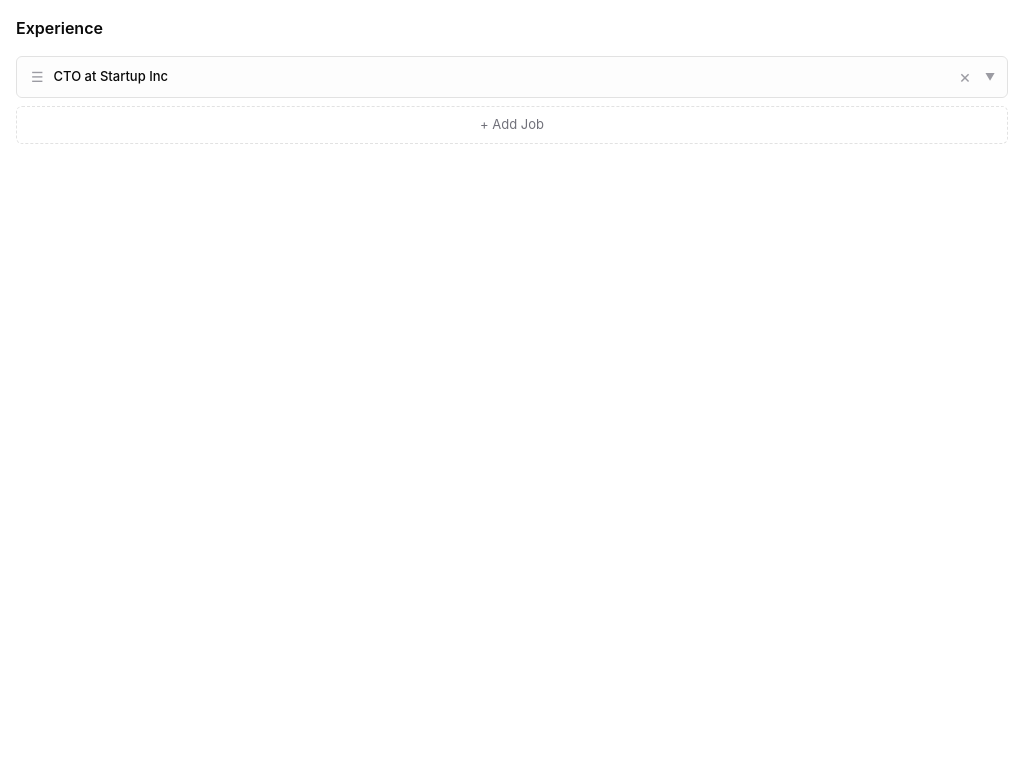
Test case: ExperienceEditor › current position toggle › shows the "Current position" checkbox as checked when isCurrent is "true"
What coordinates should you click on to do the following:
click the button "☰ CTO at Startup Inc × ▼"
I would click on:
 (111, 76)
Its box is [17, 57, 1007, 97].
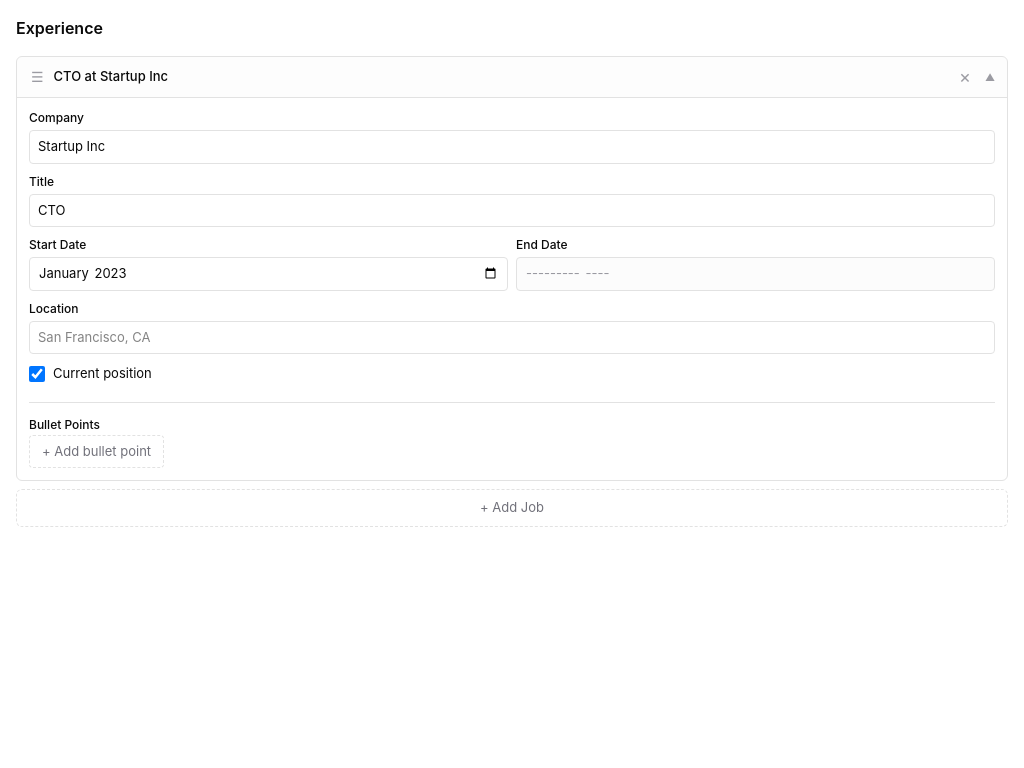
Result: the checkbox labelled "Current position" is checked at [29, 366, 45, 382]
Result: the field below "End Date" is disabled at [516, 257, 995, 290]
